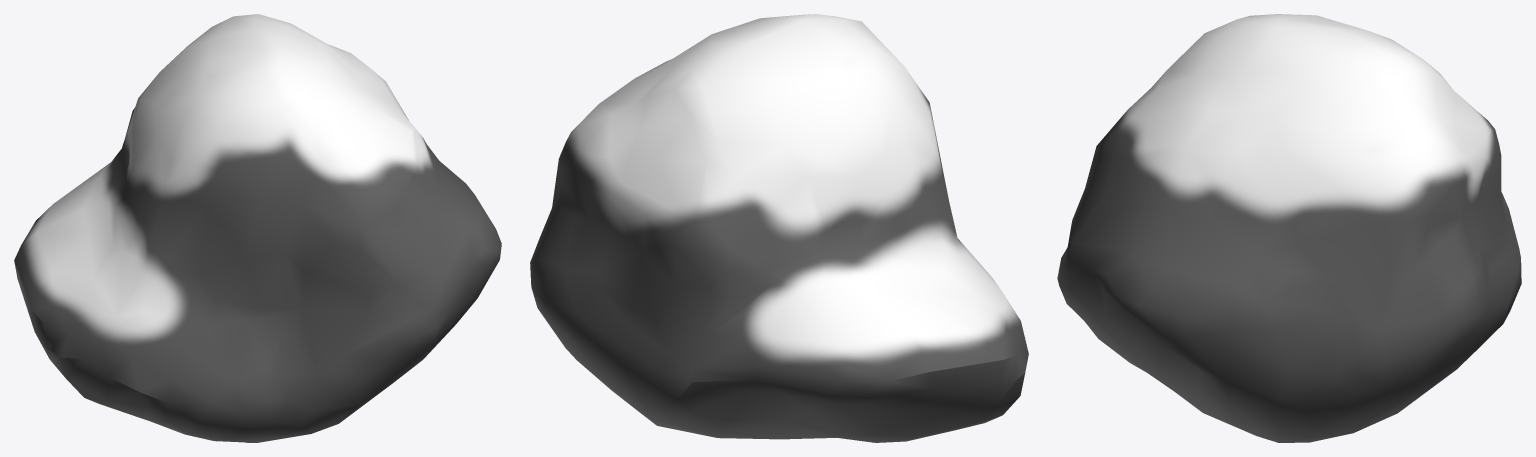
File: Rock_2.fbx
3 renders of one model, left to right at view 1: azimuth 30°, elevation 25°; view 2: azimuth 150°, elevation 25°; view 3: azimuth 270°, elevation 25°, orthographic. The views are drawn at different scales.
Visible parts, largest first — view 1: rock_2; view 2: rock_2; view 3: rock_2.
Boxes of the visible parts, x1=… form: rock_2: x1=14, y1=14, x2=501, y2=442; rock_2: x1=530, y1=14, x2=1028, y2=442; rock_2: x1=1057, y1=14, x2=1521, y2=442.
Bounding box in the file's own units: 135 × 118 × 129.
